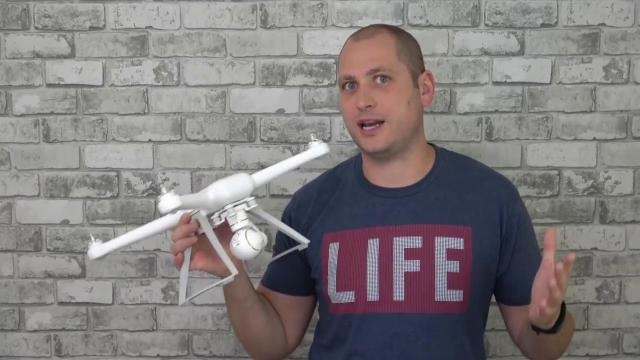drone: (47, 119, 355, 339)
